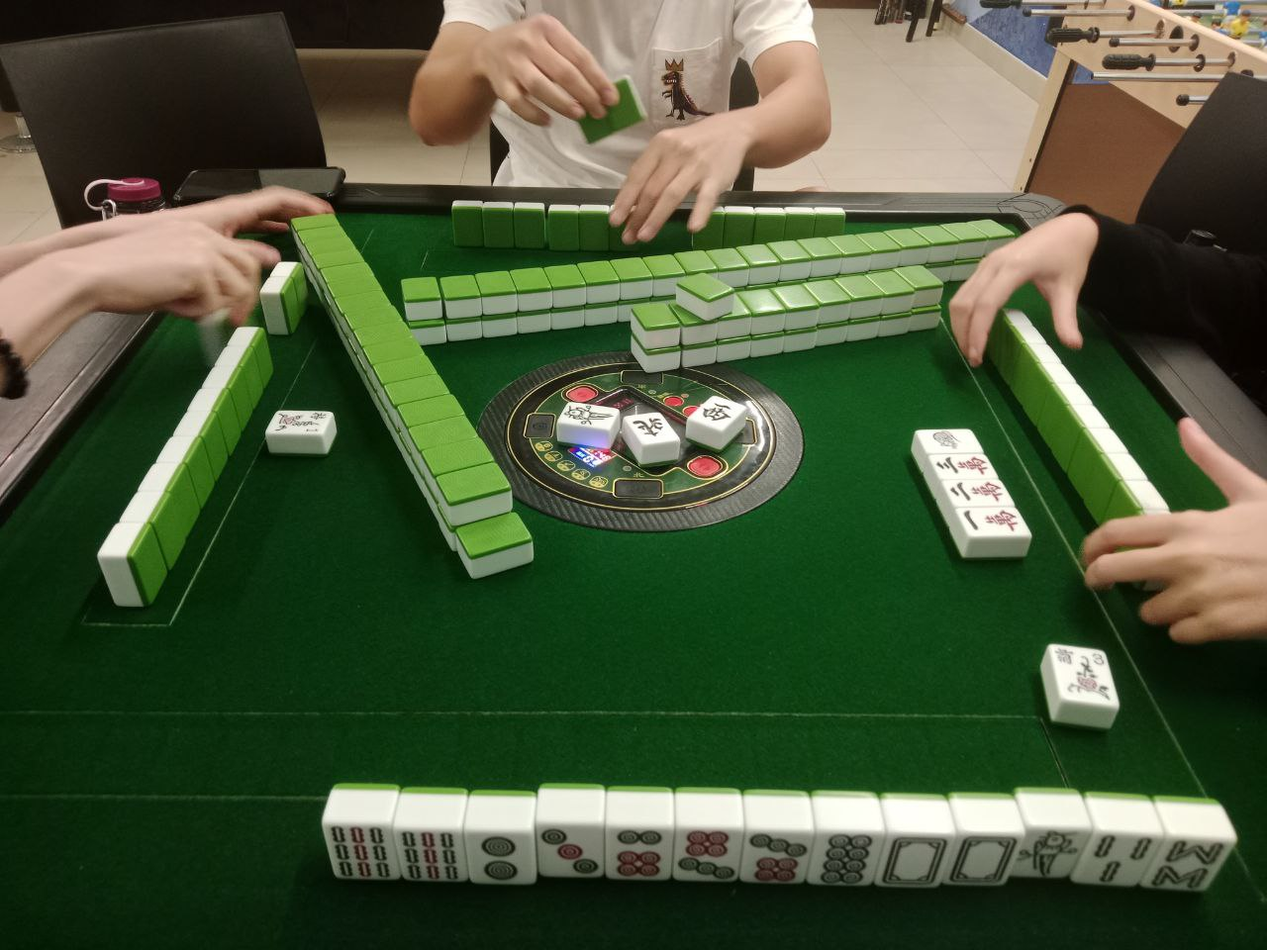TILE: (390, 821, 472, 883), (462, 824, 541, 886), (323, 820, 402, 881), (1155, 831, 1231, 892), (1049, 645, 1119, 709), (744, 825, 813, 887), (535, 819, 608, 877), (1084, 828, 1158, 885), (675, 820, 743, 882), (882, 828, 950, 890), (605, 822, 676, 879), (950, 830, 1020, 887), (812, 826, 879, 885), (1022, 823, 1083, 882)
